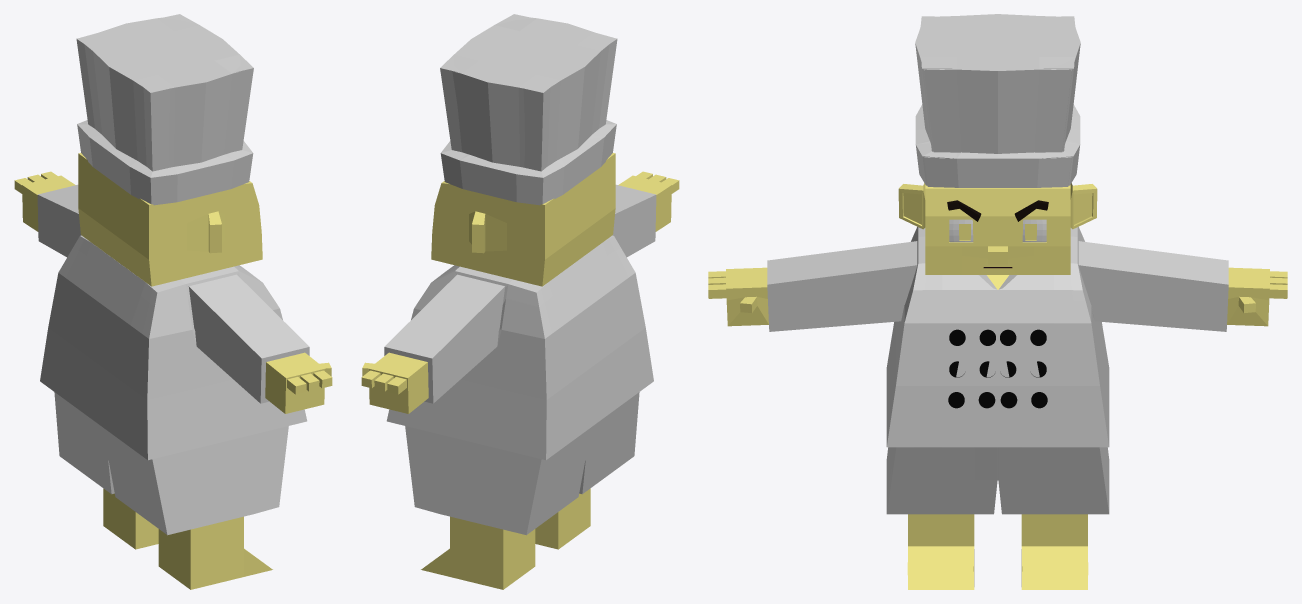
File: ChefMalBOTOES.fbx
3 renders of one model, left to right at view 1: azimuth 30°, elevation 25°; view 2: azimuth 150°, elevation 25°; view 3: azimuth 270°, elevation 25°, orthographic. The views are drawn at different scales.
Parts seen in each view (by area): view 1: Cube; view 2: Cube; view 3: Cube.
Boxes of the visible parts, <box> form: Cube: <box>14,14,332,589</box>; Cube: <box>361,14,679,589</box>; Cube: <box>708,14,1287,589</box>.
Bounding box in the file's own units: 118 × 355 × 362.
